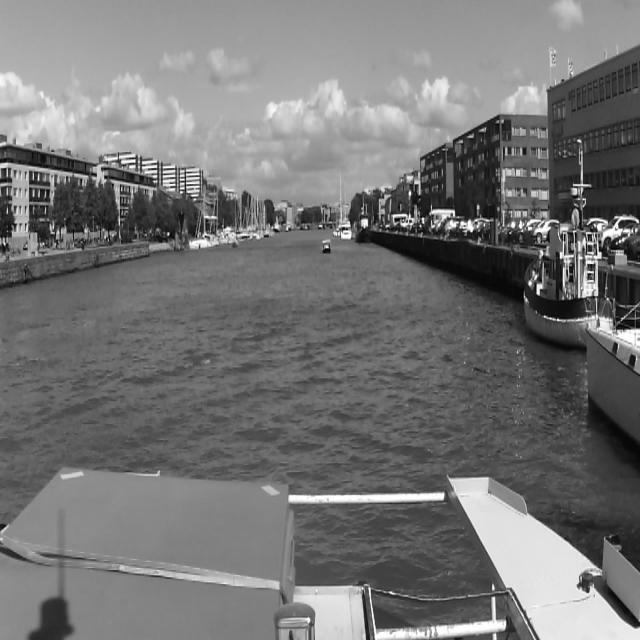ship: (517, 132, 617, 353), (193, 179, 215, 249), (354, 208, 372, 244), (338, 220, 352, 242), (321, 240, 331, 253)
